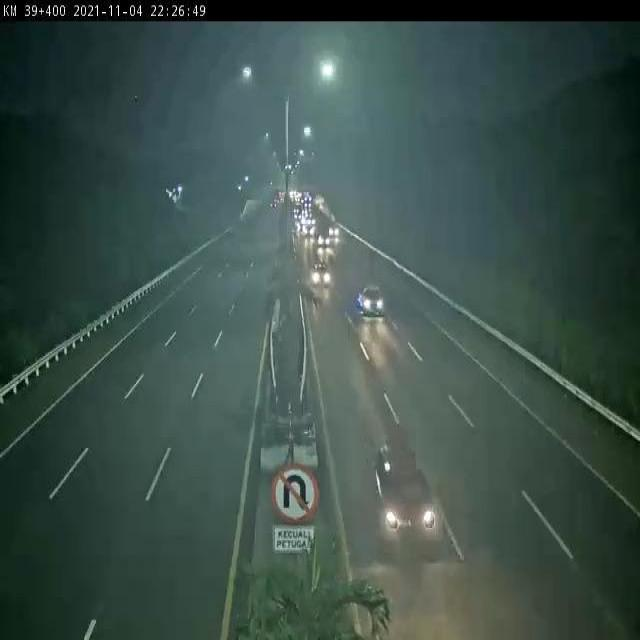car: (370, 435, 440, 561), (353, 271, 400, 320)
